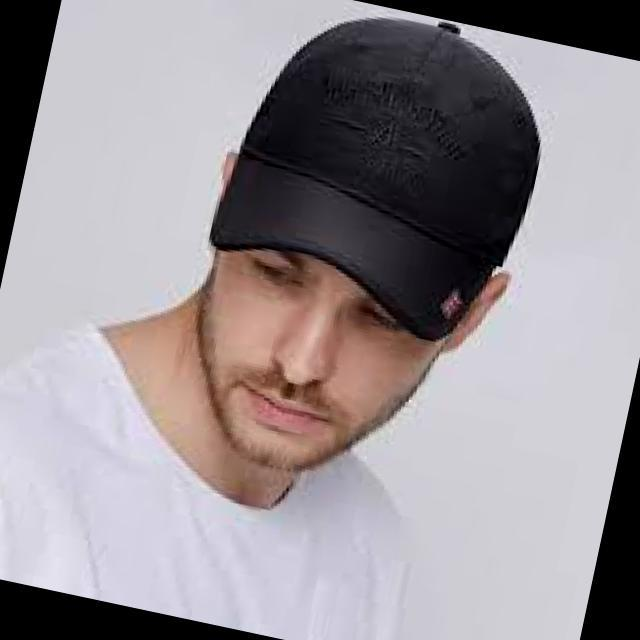cap: (155, 0, 590, 383)
